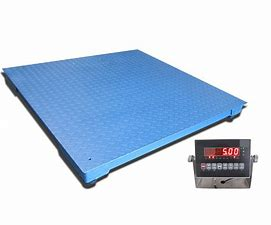Industrial Scale: (1, 47, 260, 190)
